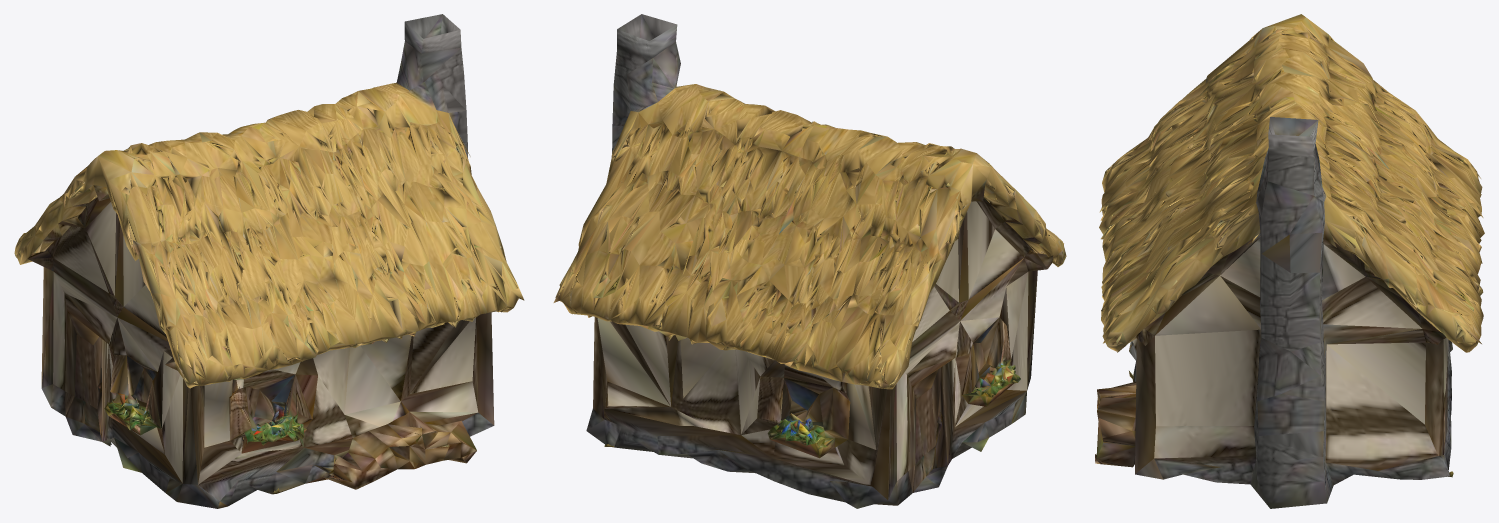
The model's file is house_peasant_a_lod0.glb.
3 views of the same model, side by side, from view 1: azimuth 30°, elevation 25°; view 2: azimuth 150°, elevation 25°; view 3: azimuth 270°, elevation 25° (orthographic). The views are drawn at different scales.
Parts seen in each view (by area): view 1: Mesh_0; view 2: Mesh_0; view 3: Mesh_0.
Boxes of the visible parts, box(x1,y1,x2,y2) form: Mesh_0: box(14, 14, 524, 508); Mesh_0: box(553, 14, 1066, 508); Mesh_0: box(1095, 14, 1484, 508).
Bounding box in the file's own units: 1.86 × 1.74 × 1.66.
Materials: 1 (1 with a texture image).
